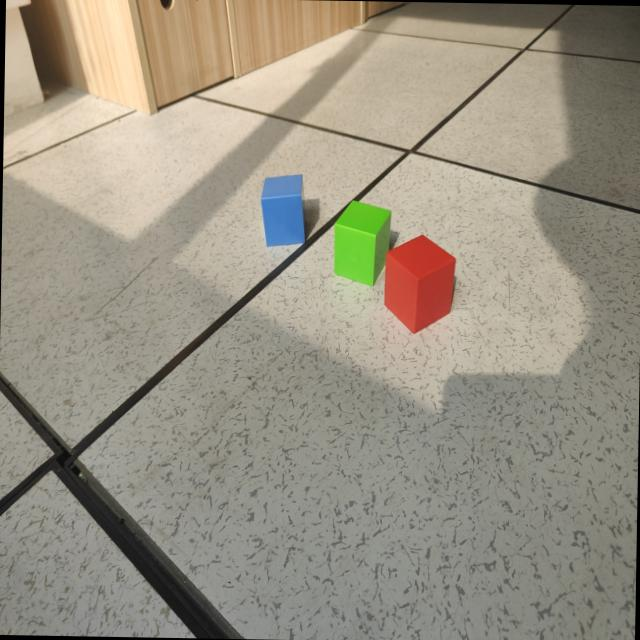blue: (259, 174, 307, 250)
green: (332, 201, 393, 286)
red: (384, 236, 456, 335)
